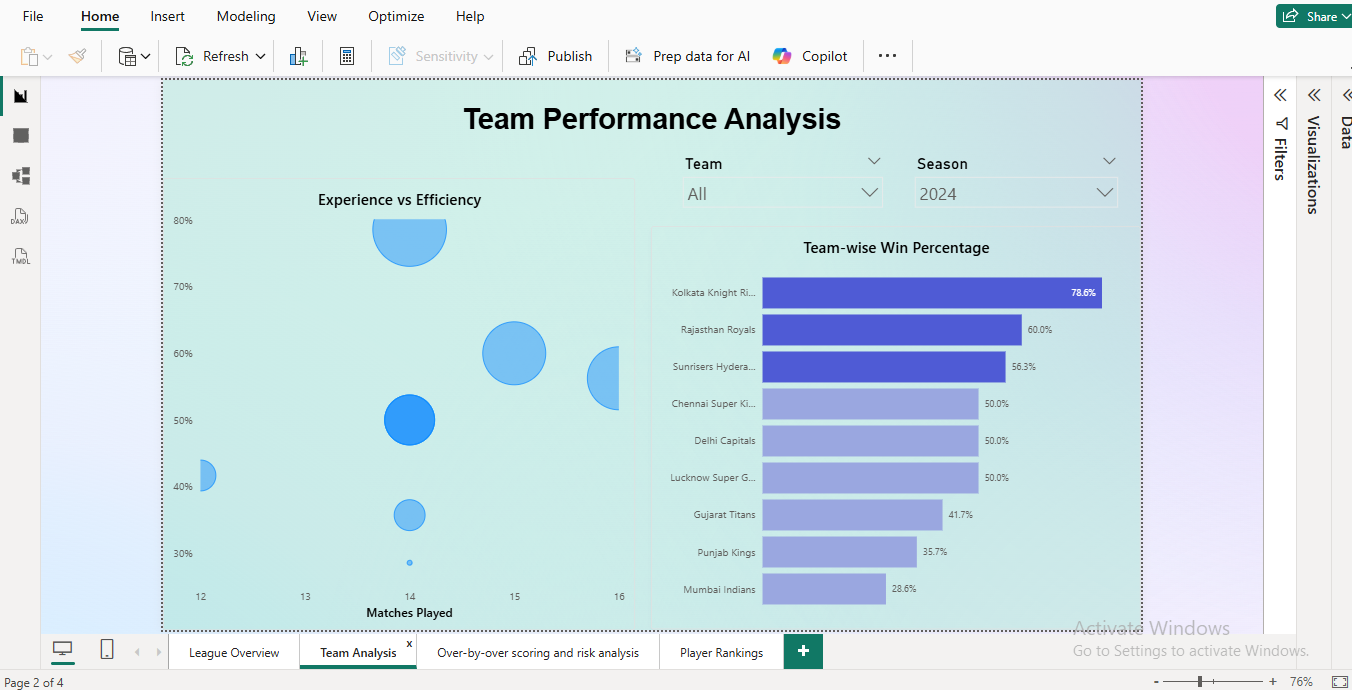

Layout of this report page (visuals, bound fields, positions):
{"tool":"powerbi","page":{"name":"Team Analysis","canvas":[1280,720],"ordinal":1},"visuals":[{"type":"barChart","title":"Team-wise Win Percentage","fields":{"Category":["Teams.Team"],"Y":["Teams.Win %"]},"box":[639.4,191.5,640.8,528.5],"z":2000},{"type":"textbox","box":[0,15.8,1280.2,80.6],"z":3000},{"type":"slicer","fields":{"Values":["matches.season"]},"box":[979.2,96.5,276.5,95],"z":4000},{"type":"slicer","fields":{"Values":["Teams.Team"]},"box":[675.4,96.5,272.2,95],"z":5000},{"type":"scatterChart","title":"Experience vs Efficiency","fields":{"X":["Teams.Matches Played"],"Y":["Logos.Win%"],"Category":["Teams.Team"],"Size":["Teams.Wins"]},"box":[0,128.2,617.8,591.8],"z":6000}]}

Visuals, with their boxes on the page's 1280x720 design canvas (x1, y1, x2, y2). These are canvas units, not pixel positions in the 1352x690 screenshot, which may show the page scaled, cropped or inside an application window:
"Team-wise Win Percentage" barChart: 639,192,1280,720
textbox: 0,16,1280,96
slicer - matches.season: 979,96,1256,192
slicer - Teams.Team: 675,96,948,192
"Experience vs Efficiency" scatterChart: 0,128,618,720
